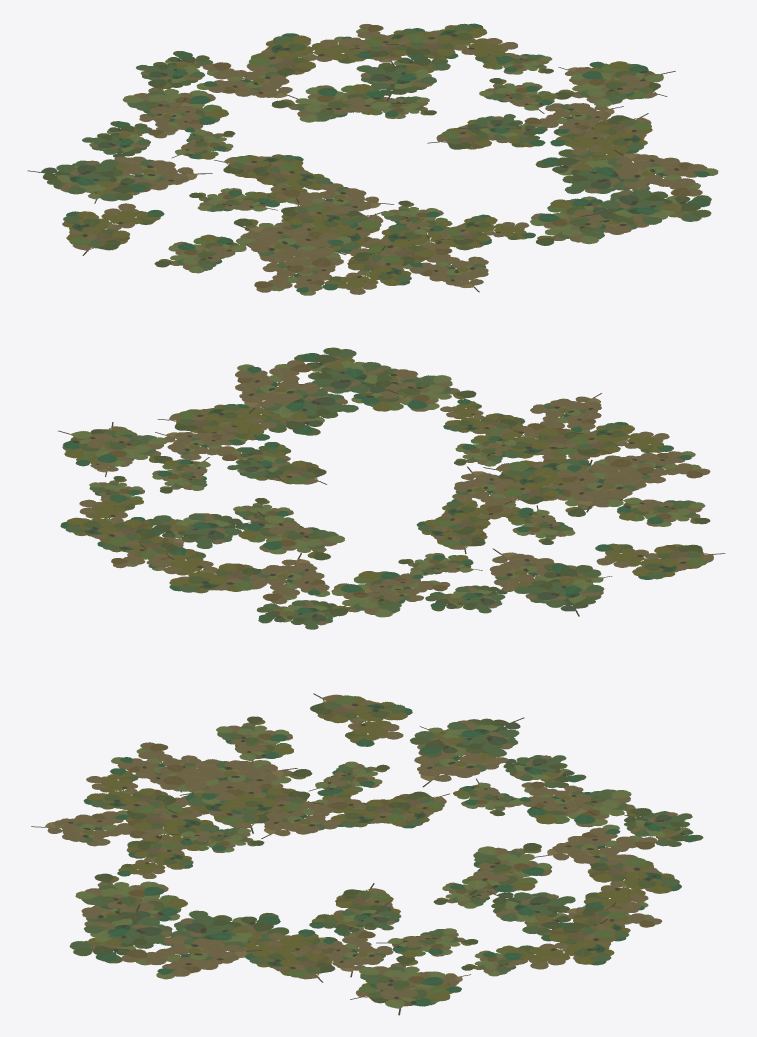
Rendered from aulne_jeune_a.fbx.
The picture shows the model from 3 angles, top to bottom: view 1: azimuth 30°, elevation 25°; view 2: azimuth 150°, elevation 25°; view 3: azimuth 270°, elevation 25°; orthographic projection. The views are drawn at different scales.
Parts seen in each view (by area): view 1: aulne_jeune_a_feuilles_sol; view 2: aulne_jeune_a_feuilles_sol; view 3: aulne_jeune_a_feuilles_sol.
Boxes of the visible parts, box(x1,y1,x2,y2) form: aulne_jeune_a_feuilles_sol: box(27, 23, 718, 295); aulne_jeune_a_feuilles_sol: box(58, 347, 725, 629); aulne_jeune_a_feuilles_sol: box(31, 693, 703, 1015).
Size of what is drawn, in the model's own units: 2.4 by 0.00564 by 2.14.
